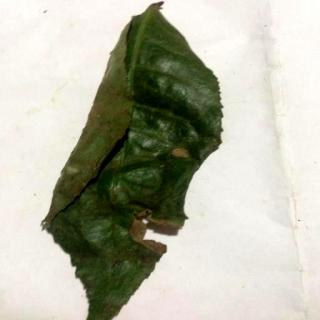Red Leaf Spot: (44, 3, 224, 320)
